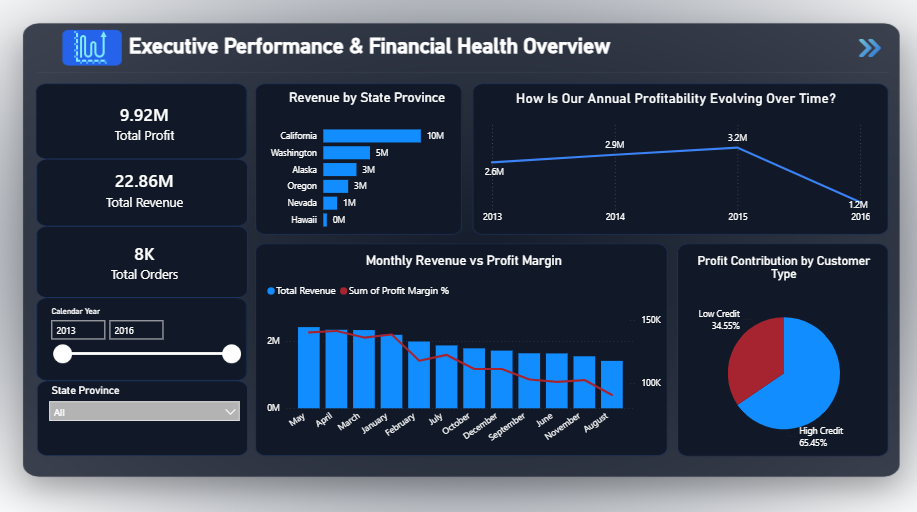

The dashboard page shown, as its layout file describes it:
{"tool":"powerbi","page":{"name":" Page 1","canvas":[1280,720],"ordinal":1},"visuals":[{"type":"image","box":[65.2,55.3,133.2,45.4],"z":0},{"type":"shape","title":"Executive Performance & Financial Health Overview","box":[184.3,58.1,673.2,52.4],"z":1000},{"type":"lineChart","title":"How Is Our Annual Profitability Evolving Over Time?","fields":{"Y":["FactSale.Total Profit"],"Category":["DimDate.Calendar Year"]},"box":[666.1,136.1,542.8,192.8],"z":2000},{"type":"cardVisual","fields":{"Data":["FactSale.Total Revenue"]},"box":[65.2,225.4,282,93.5],"z":3000},{"type":"barChart","title":"Revenue by State Province","fields":{"Y":["FactSale.Total Revenue"],"Category":["DimCity.State Province"]},"box":[368.5,136.1,286.3,202.7],"z":4000},{"type":"cardVisual","fields":{"Data":["FactSale.Total Orders"]},"box":[65.2,328.8,282,86.5],"z":5000},{"type":"lineClusteredColumnComboChart","title":"Monthly Revenue vs Profit Margin ","fields":{"Category":["DimDate.Month"],"Y":["FactSale.Total Revenue"],"Y2":["Sum(FactSale.Profit Margin %)"]},"box":[368.5,360,552.8,282],"z":6000},{"type":"pieChart","title":"Profit Contribution by Customer Type","fields":{"Category":["DimCustomer.Credit Category"],"Y":["FactSale.Total Profit"]},"box":[948.2,360,275,282],"z":7000},{"type":"cardVisual","fields":{"Data":["FactSale.Total Profit"]},"box":[65.2,136.1,282,89.3],"z":8000},{"type":"slicer","fields":{"Values":["DimDate.Calendar Year"]},"box":[65.2,429.4,282,107.7],"z":9000},{"type":"slicer","fields":{"Values":["DimCity.State Province"]},"box":[65.2,537.2,282,104.9],"z":10000},{"type":"image","box":[1176.4,62.4,55.3,32.6],"z":11000}]}

Visuals, with their boxes in screenshot pixels (x1, y1, x2, y2), scaled from the page's 1280x720 canvas onto the 917x512 screenshot:
image: locate(47, 39, 142, 72)
"Executive Performance & Financial Health Overview" shape: locate(132, 41, 614, 79)
"How Is Our Annual Profitability Evolving Over Time?" lineChart: locate(477, 97, 866, 234)
cardVisual - FactSale.Total Revenue: locate(47, 160, 249, 227)
"Revenue by State Province" barChart: locate(264, 97, 469, 241)
cardVisual - FactSale.Total Orders: locate(47, 234, 249, 295)
"Monthly Revenue vs Profit Margin " lineClusteredColumnComboChart: locate(264, 256, 660, 457)
"Profit Contribution by Customer Type" pieChart: locate(679, 256, 876, 457)
cardVisual - FactSale.Total Profit: locate(47, 97, 249, 160)
slicer - DimDate.Calendar Year: locate(47, 305, 249, 382)
slicer - DimCity.State Province: locate(47, 382, 249, 457)
image: locate(843, 44, 882, 68)
